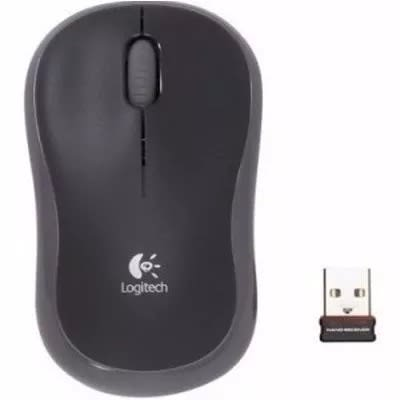logitech-mouse-m185: (21, 9, 271, 394)
